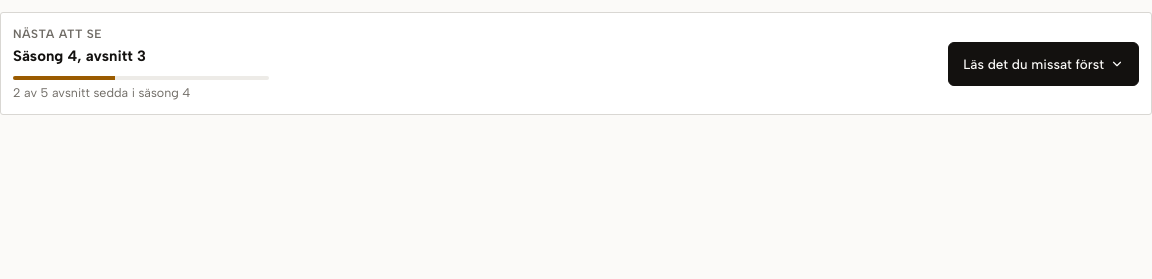
Test: RecapPanel timeline › shows the boundary content (not a dead spinner) while prior-season docs are still loading
What coordinates should you click on to do the following:
click the button "Läs det du missat först"
I would click on:
 (1044, 64)
Its box is [948,42,1139,86].
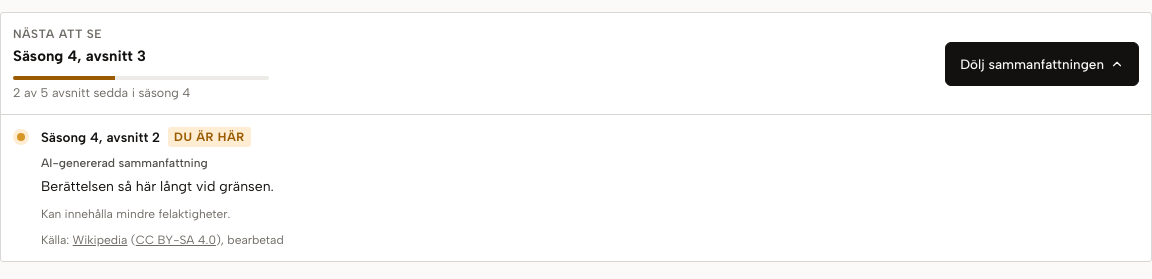
Expected: the text "Berättelsen så här långt vid gränsen." is shown, [41,178,274,194]
Expected: the list is shown, [13,127,284,246]
